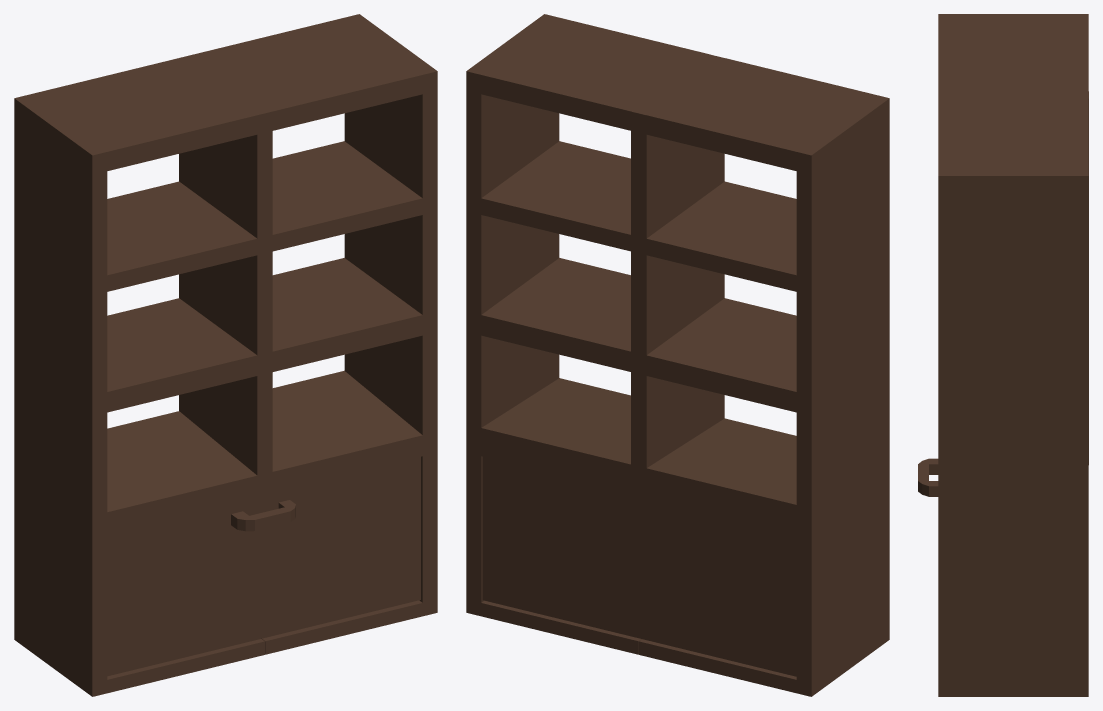
The model's file is Estante.fbx.
3 views of the same model, side by side, from view 1: azimuth 30°, elevation 25°; view 2: azimuth 150°, elevation 25°; view 3: azimuth 270°, elevation 25° (orthographic). The views are drawn at different scales.
Visible parts, largest first — view 1: Estante, Gaveta; view 2: Estante, Gaveta; view 3: Estante, Gaveta.
Part boxes in pixels (x1,y1,x2,y2): Estante: [14, 14, 437, 696]; Gaveta: [107, 456, 420, 676]; Estante: [466, 14, 889, 696]; Gaveta: [482, 456, 796, 676]; Estante: [938, 14, 1088, 696]; Gaveta: [918, 458, 938, 496].
Size of the model in its own units: 182 by 273 by 81.28.
